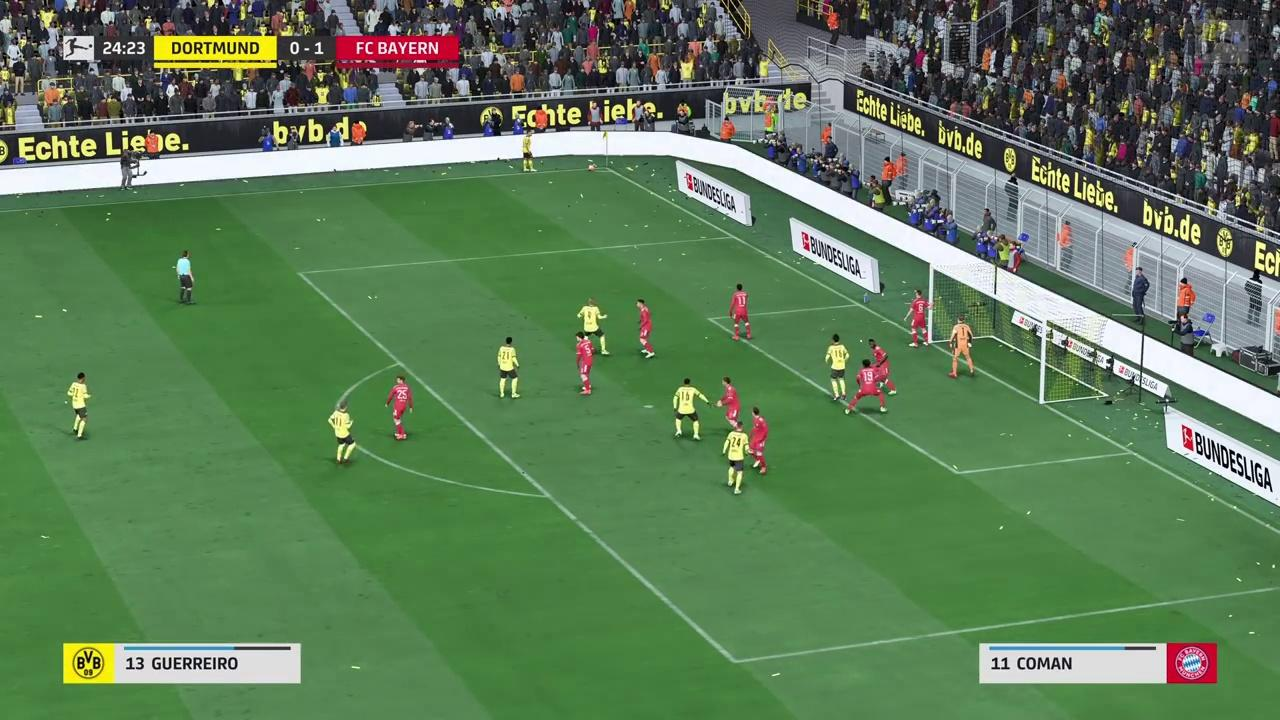scoreboard: (153, 33, 463, 66)
timestamp: (92, 37, 151, 60)
